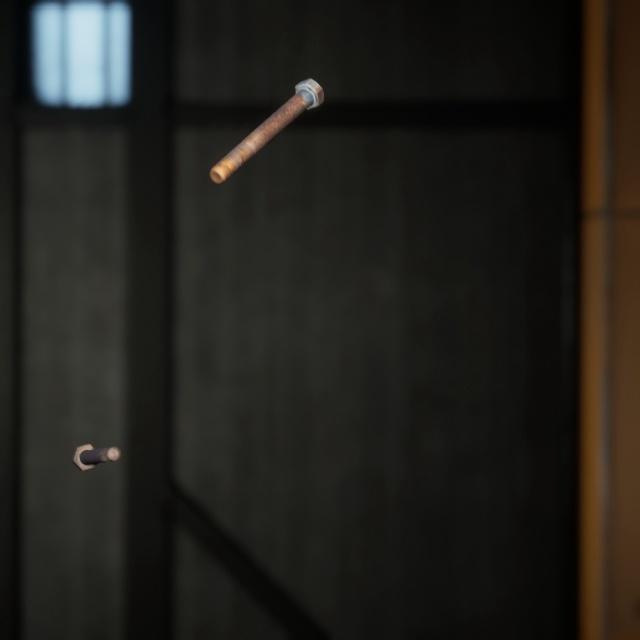bolt: (205, 61, 328, 174), (67, 419, 125, 455)
